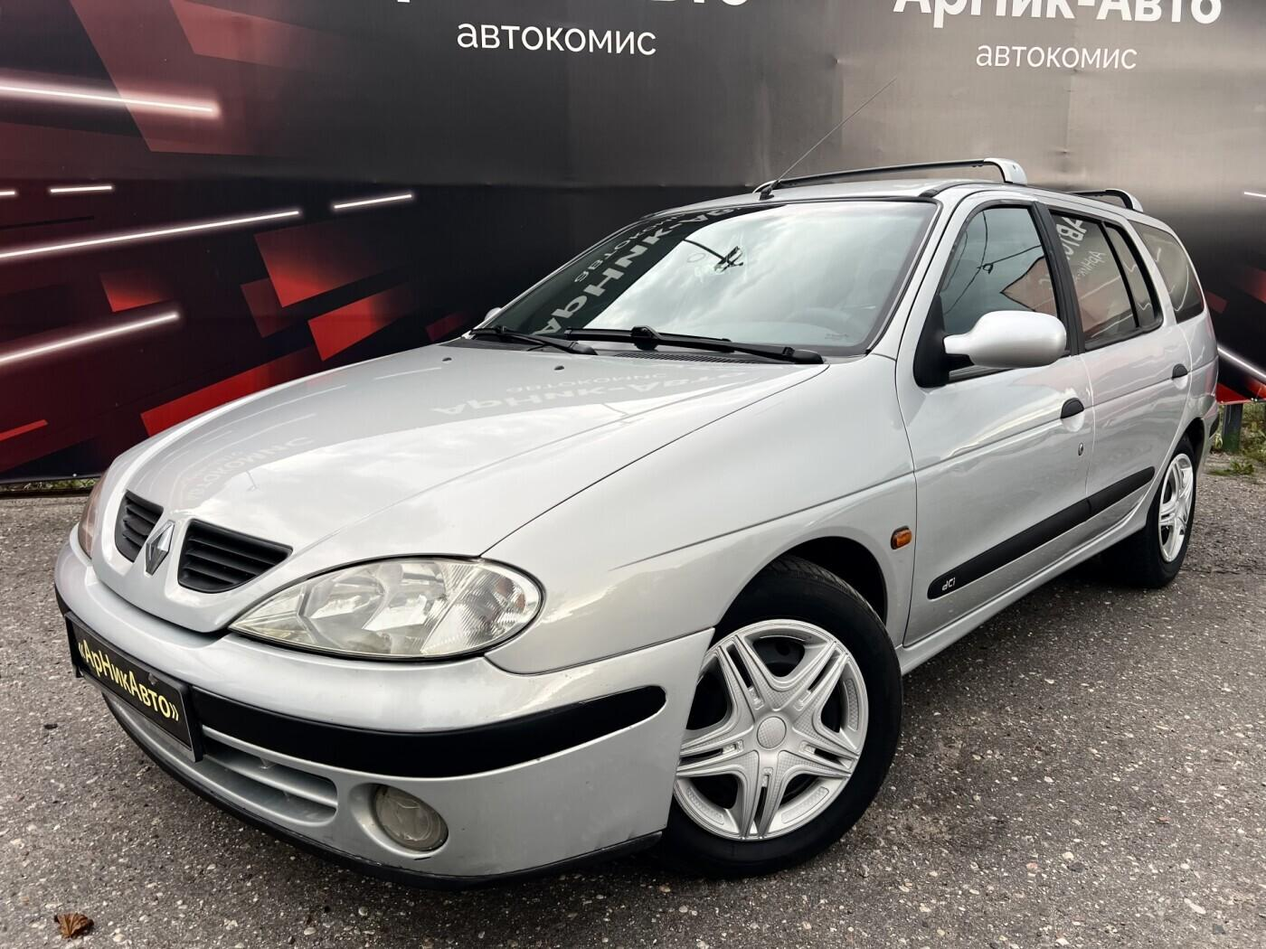Megane_1999-2003: (53, 176, 1212, 893)
